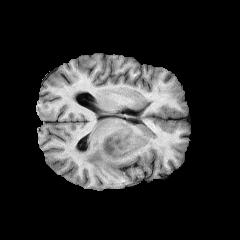glioma: (82, 120, 153, 176)
